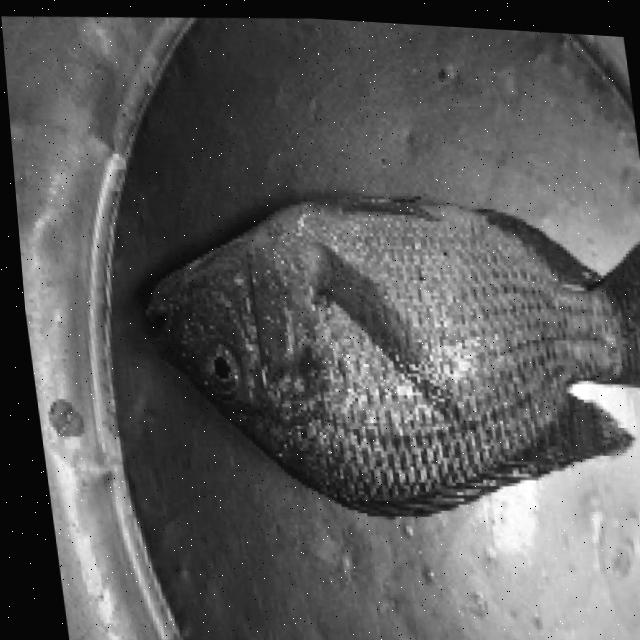Fresh: (122, 125, 640, 535)
